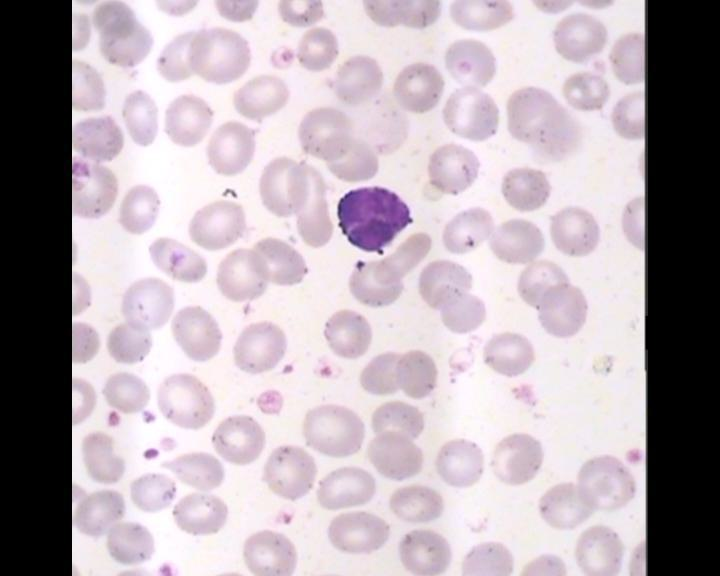baso: (333, 182, 418, 256)
